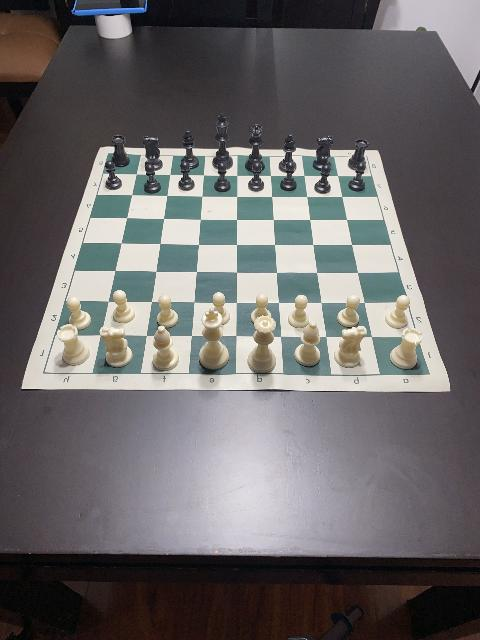black-bishop: (278, 133, 296, 173), (182, 130, 198, 170)
black-king: (213, 111, 233, 169)
black-knight: (142, 135, 162, 171), (314, 134, 332, 172)
black-pawn: (314, 166, 332, 194), (178, 162, 196, 190), (104, 162, 122, 190), (349, 162, 365, 192), (280, 162, 296, 192), (248, 162, 264, 192), (214, 164, 230, 192), (144, 165, 160, 193)
black-queen: (245, 124, 265, 172)
black-rook: (110, 134, 130, 168), (348, 140, 368, 170)
board: (20, 147, 452, 391)
white-bishop: (295, 321, 322, 367), (151, 326, 179, 370)
white-king: (198, 308, 230, 370)
white-knight: (98, 326, 132, 368), (333, 326, 366, 368)
white-pawn: (384, 296, 409, 328), (337, 295, 361, 327), (68, 296, 90, 330), (157, 295, 179, 327), (288, 294, 308, 328), (114, 290, 134, 322), (251, 294, 271, 324), (212, 292, 228, 326)
white-queen: (248, 316, 276, 372)
white-rook: (56, 324, 90, 366), (389, 328, 421, 368)
